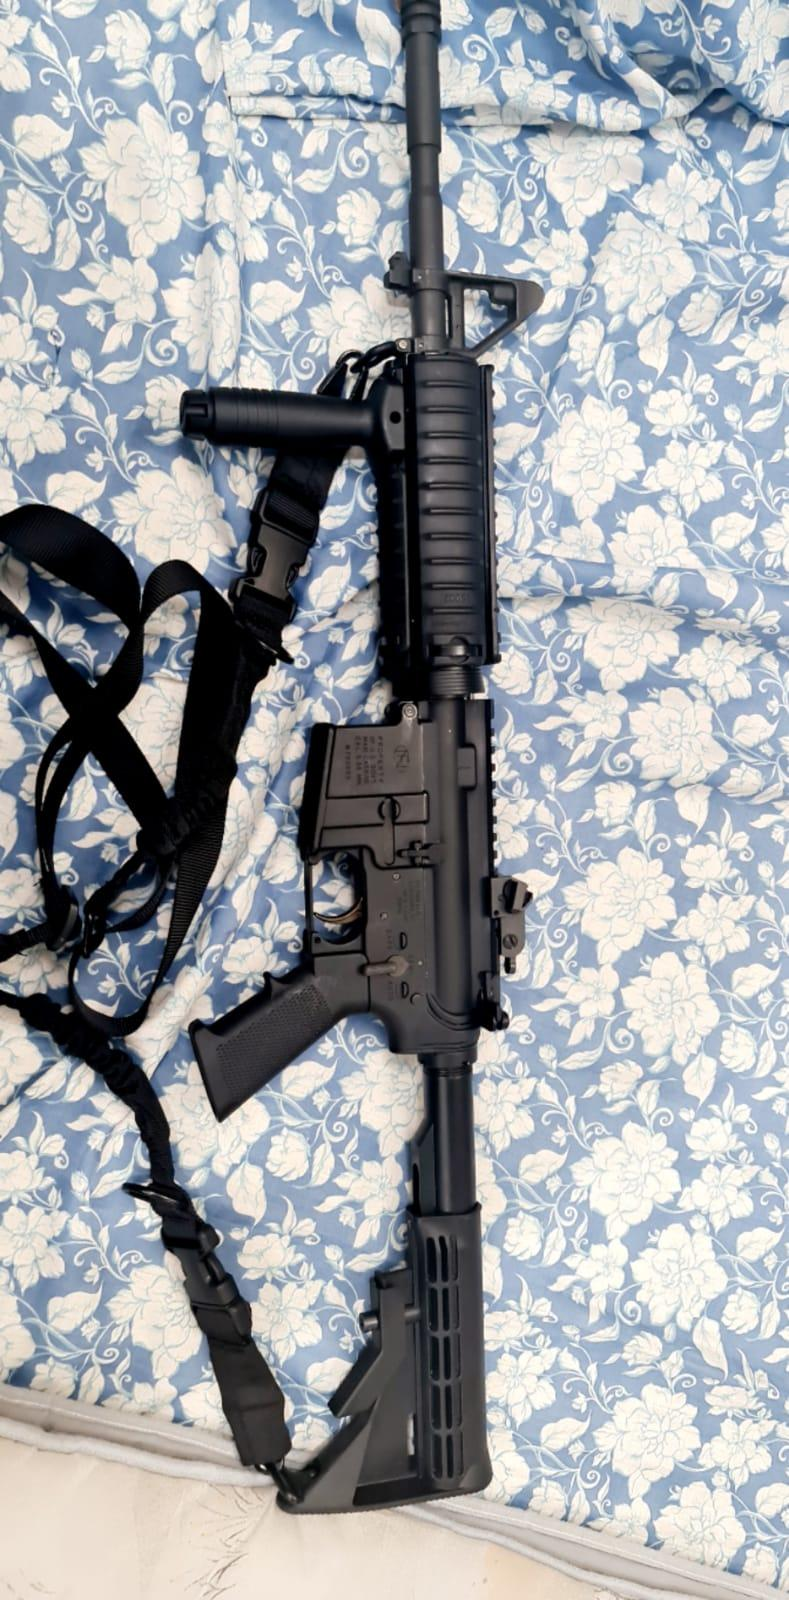weapon: (182, 0, 544, 1513)
